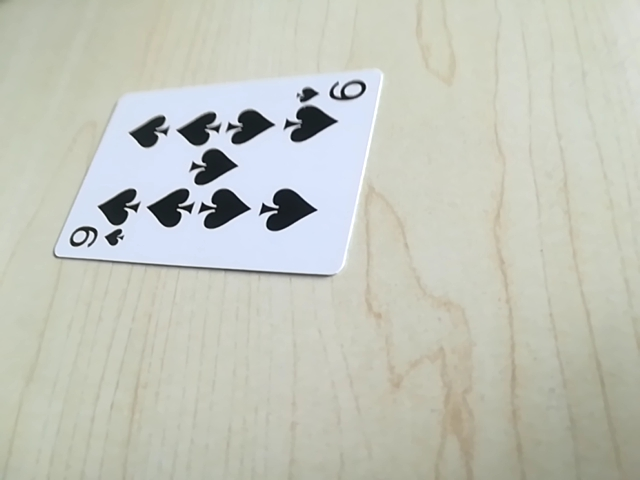ht 9: (293, 75, 371, 107), (59, 223, 128, 256)
